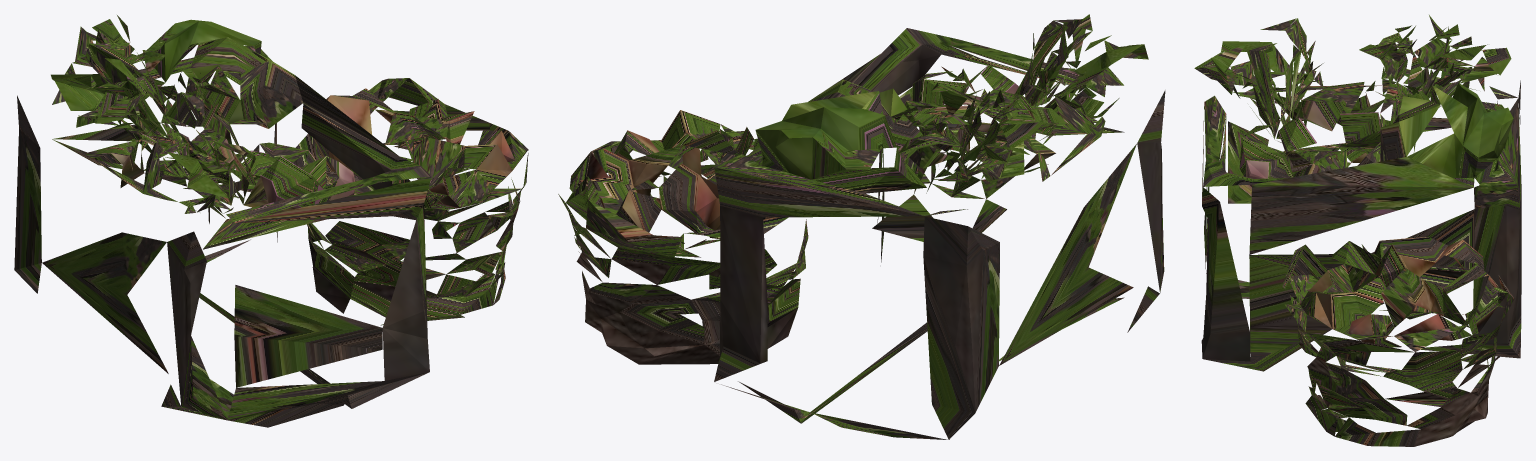
Rendered from prp_marketgoods_a_LOD1.glb.
3 views of the same model, side by side, from view 1: azimuth 30°, elevation 25°; view 2: azimuth 150°, elevation 25°; view 3: azimuth 270°, elevation 25° (orthographic). The views are drawn at different scales.
Visible parts, largest first — view 1: geometry_0; view 2: geometry_0; view 3: geometry_0.
Boxes of the visible parts, x1,y1,x2,y2 form: geometry_0: [14, 15, 528, 427]; geometry_0: [558, 14, 1165, 439]; geometry_0: [1194, 15, 1521, 446].
Bounding box in the file's own units: 1.19 × 0.8 × 0.8516.
Materials: 1 (1 with a texture image).
